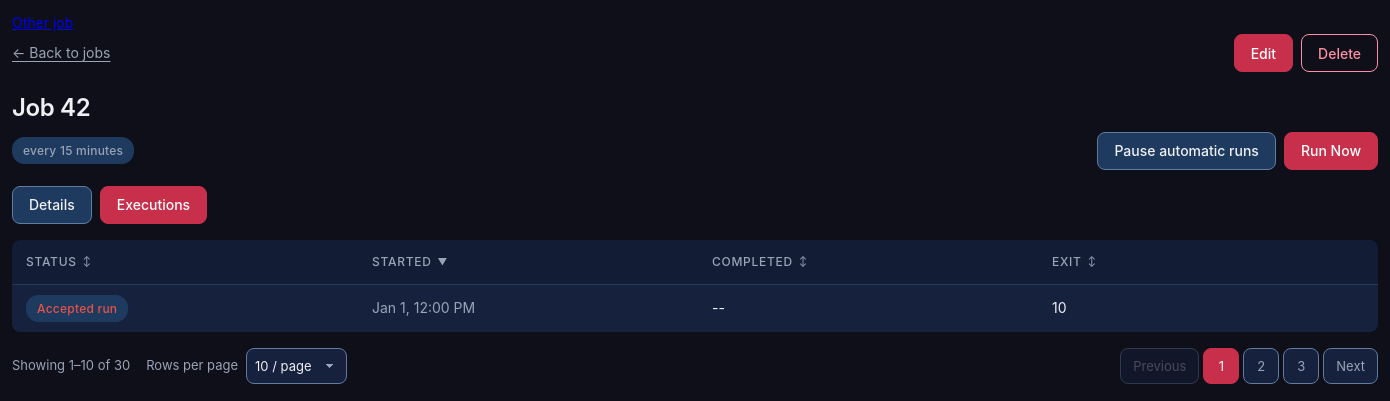
it: resets execution sort when the job identity changes
Expected: the text "Accepted run" is shown, x1=26 y1=295 x2=128 y2=322
Click the button "Exit ↕" at (1074, 262), box x1=1052 y1=250 x2=1096 y2=274
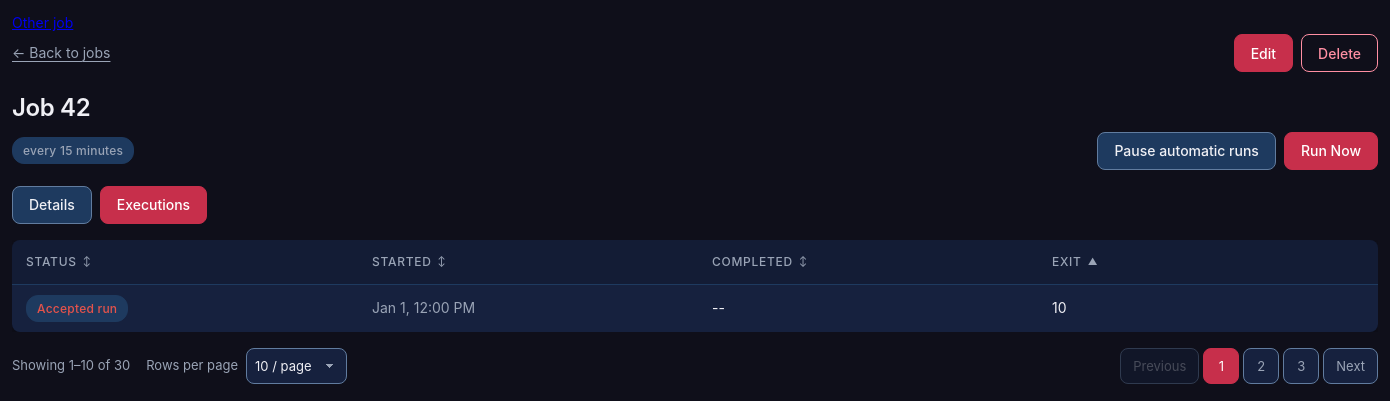
Click the link "Other job" at (43, 22), box x1=12 y1=14 x2=73 y2=31
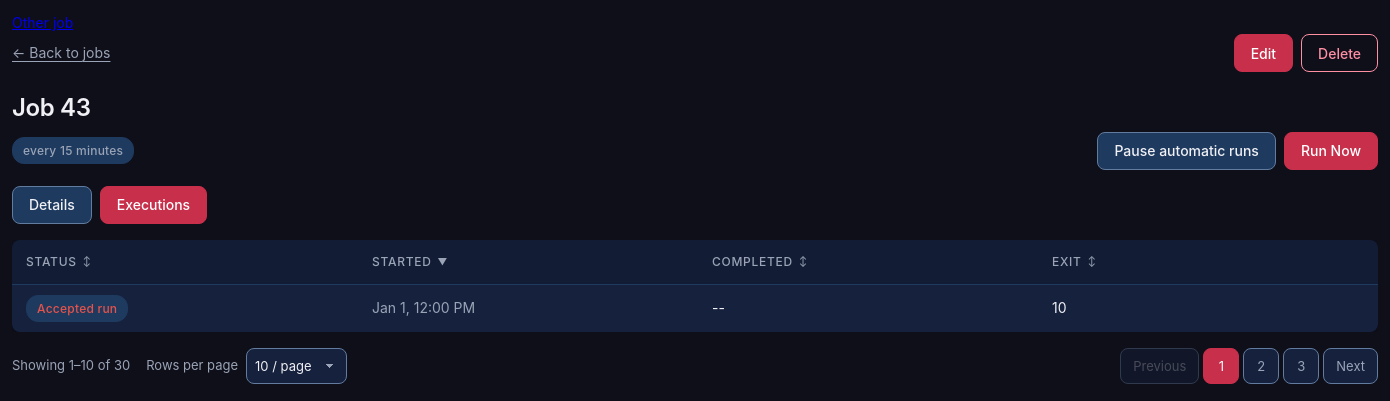
Expected: the heading "Job 43" is shown, x1=12 y1=93 x2=91 y2=122
